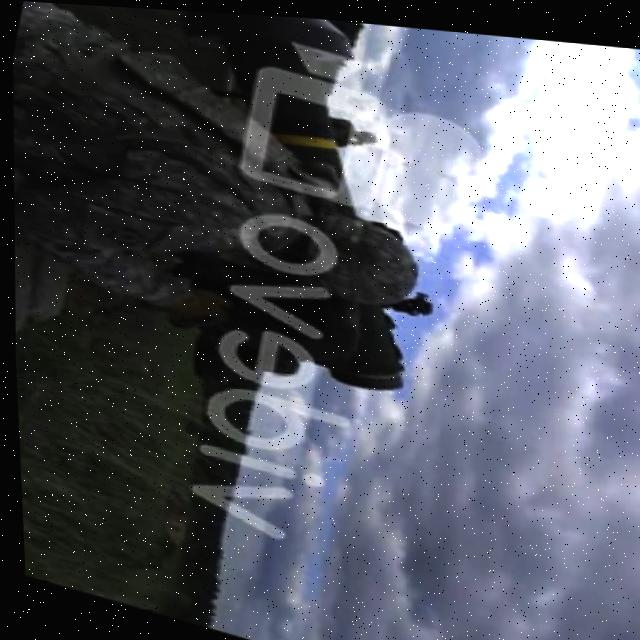rocket: (115, 5, 471, 393)
